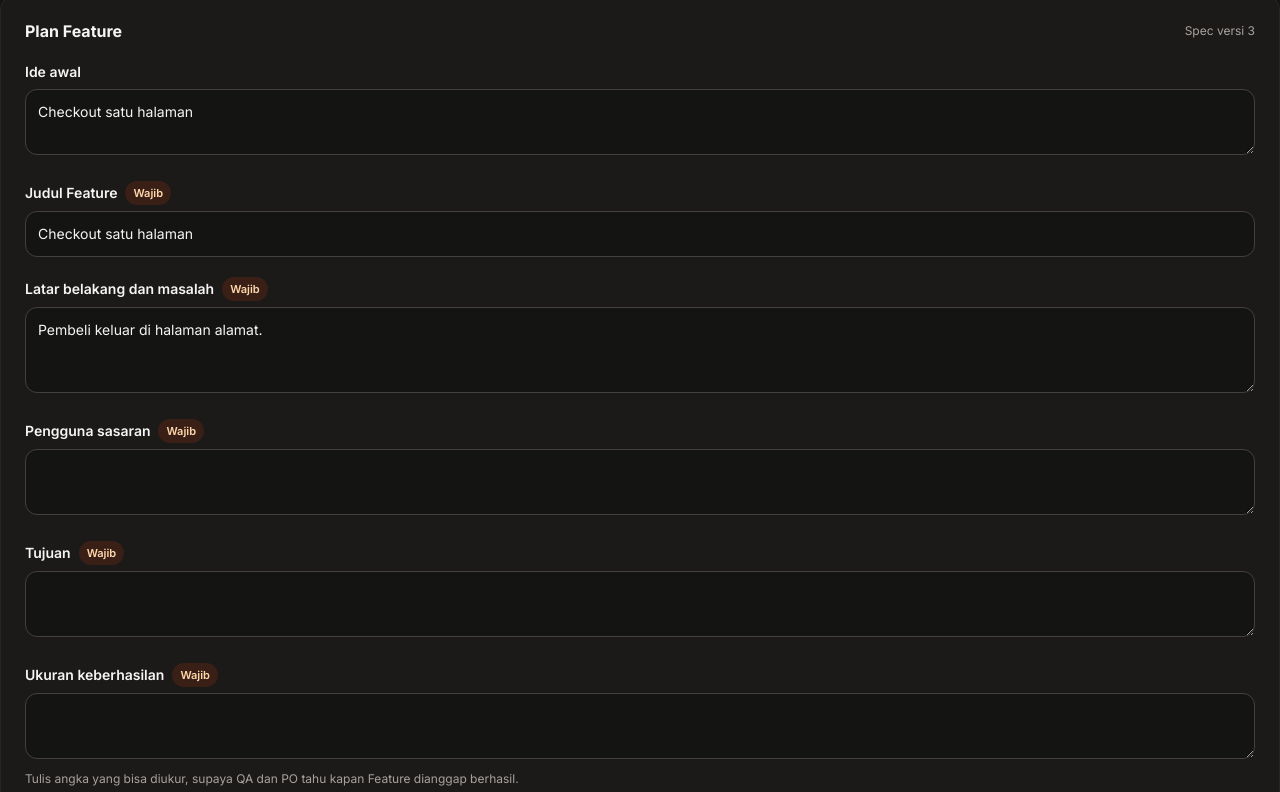
it: FeatureSpecPlanPanel (AC-5.1 to AC-5.3) › shows "Wajib diisi." on empty fields after a rejected save
The width and height of the screenshot is (1280, 792).
Expected: the text "Wajib diisi." is not shown
Step 1. Type "x" into the text box labelled "Tujuan Wajib" → (640, 604), box [25,571,1255,637]
(page scrolled)
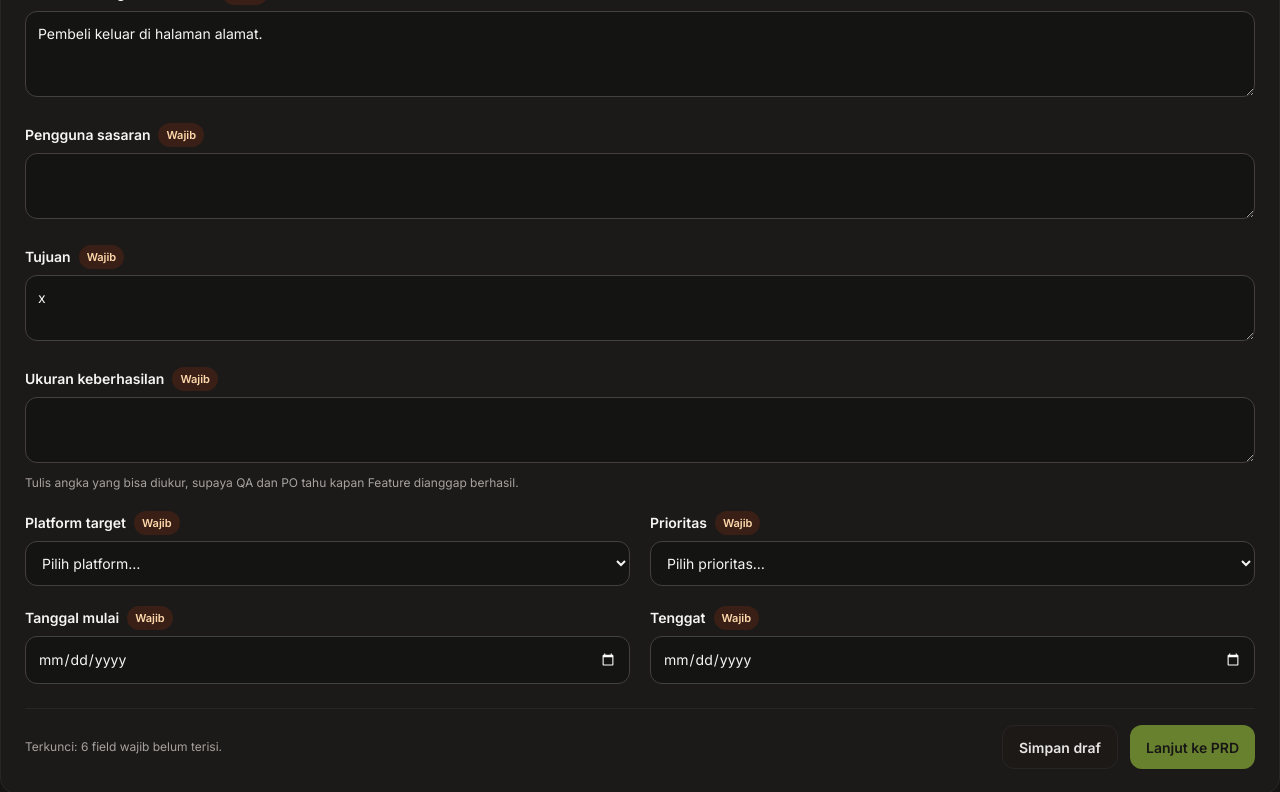
Step 2. Click the button "Simpan draf" → (1060, 747), box [1002,725,1118,769]
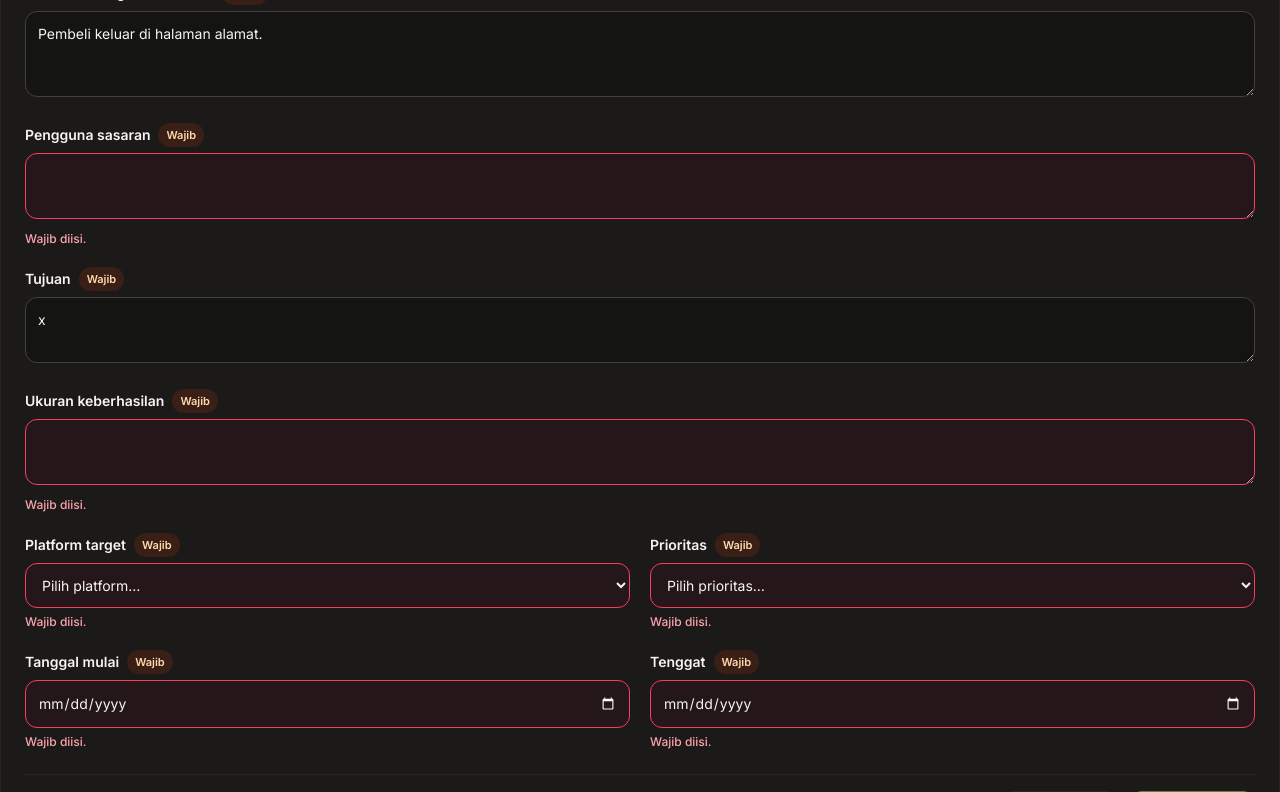
Result: the text "Wajib diisi." below "Pengguna sasaran" is shown at [25,231,86,246]
